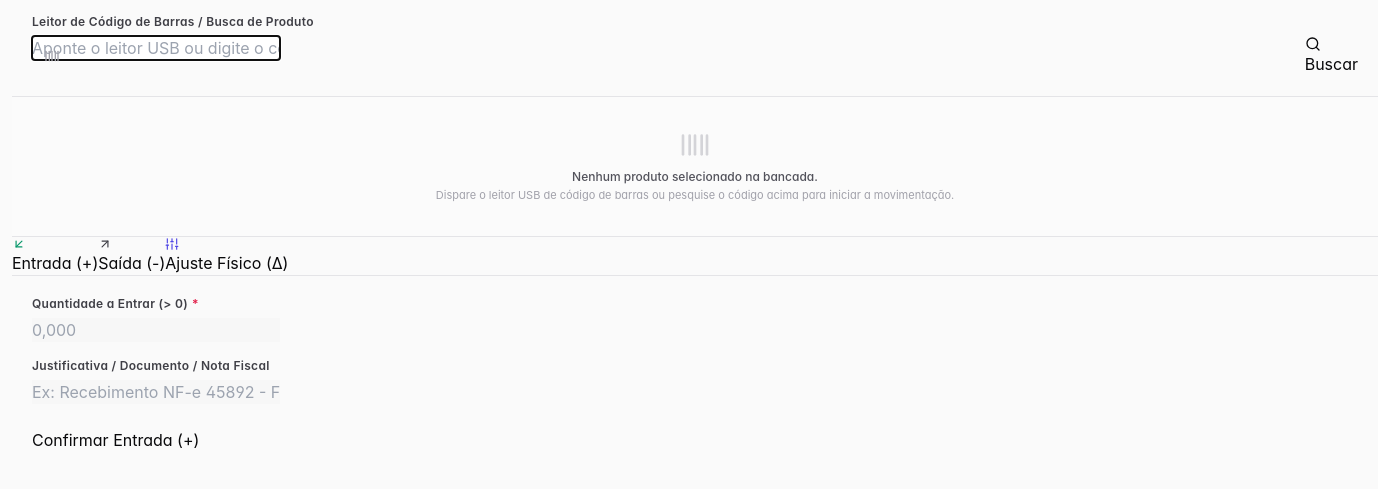
Test: MovementForm (FT-15 & FT-16) › exibe mensagem amigável de erro se a busca do produto falhar
This screenshot has width=1378, height=489.
Type "SKU_INVALIDO" into the field with test id "barcode-search-input". click: (156, 48)
box: [32,36,280,60]
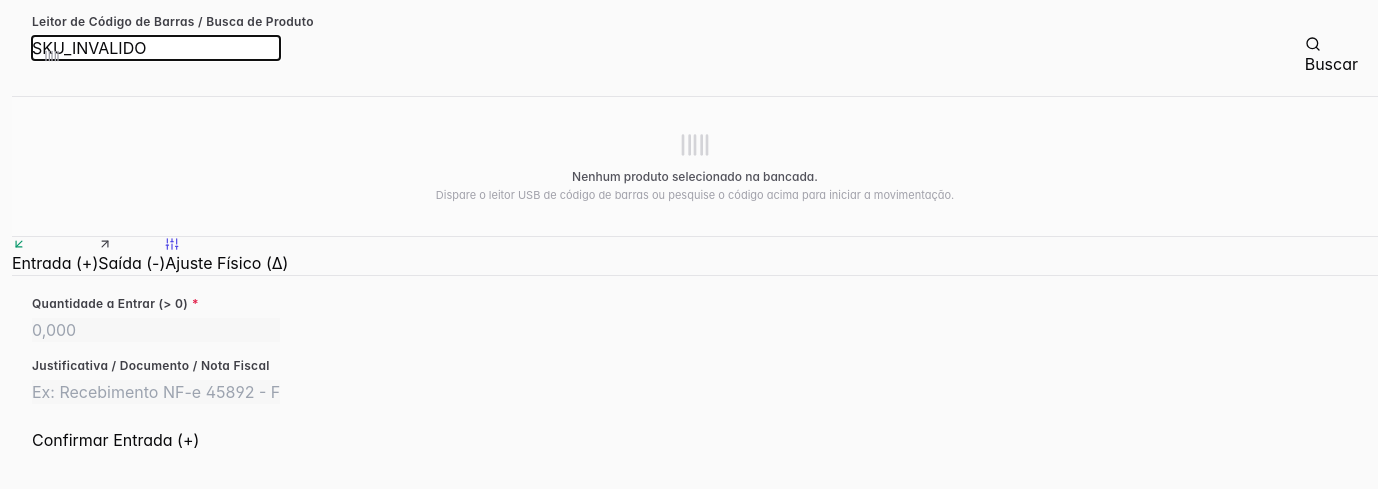
Click the button "Buscar". click: (1331, 56)
box: [1305,36,1358,76]
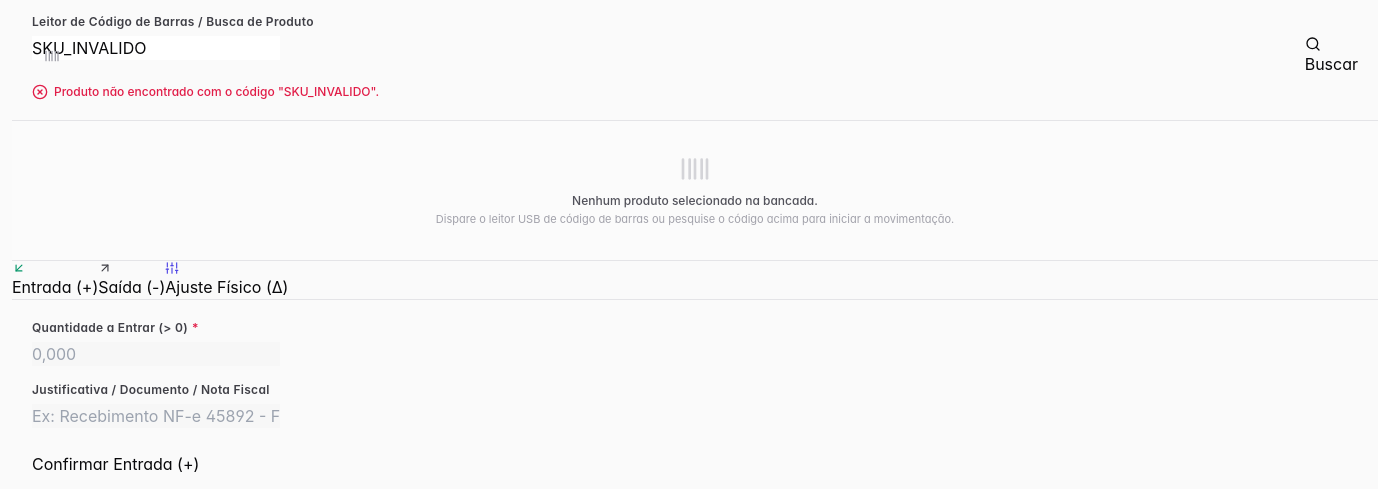
Expected: the element with test id "search-error-message" is shown, [32,84,379,100]
Expected: the element with test id "search-error-message" shows "SKU_INVALIDO", [54,84,379,99]
